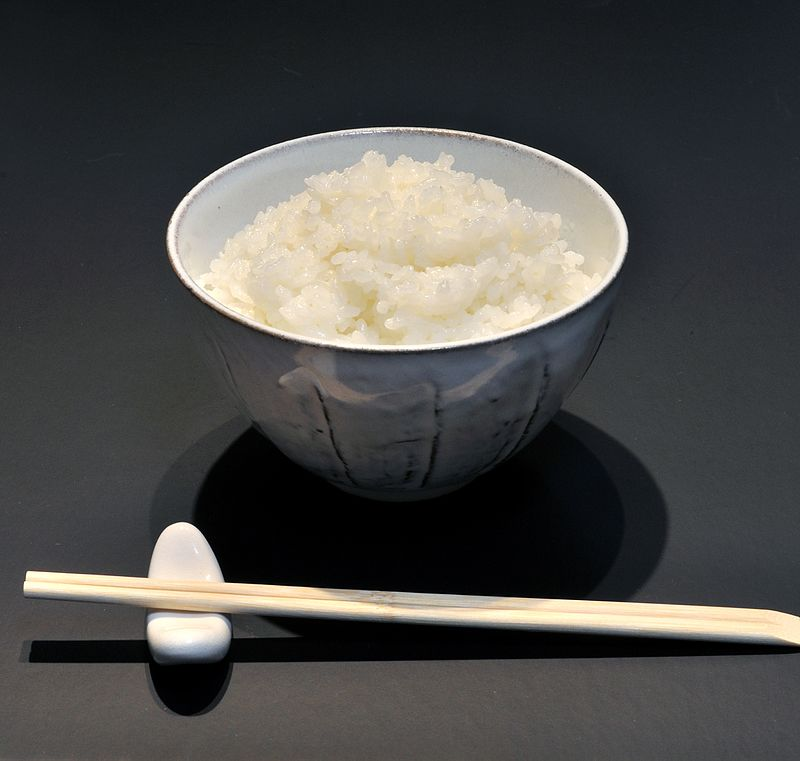Nasi Putih: (159, 141, 623, 401)
